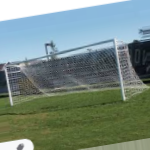goals: (3, 37, 148, 108)
